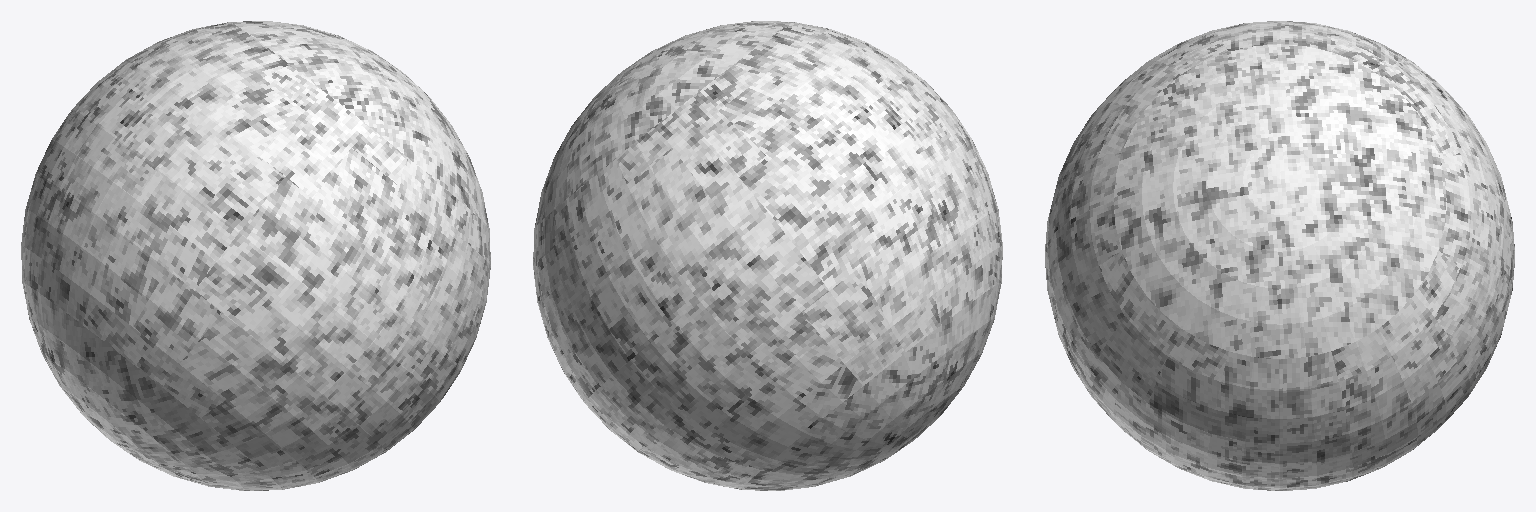
3 renders of one model, left to right at view 1: azimuth 30°, elevation 25°; view 2: azimuth 150°, elevation 25°; view 3: azimuth 270°, elevation 25°, orthographic.
Parts seen in each view (by area): view 1: Sphere001; view 2: Sphere001; view 3: Sphere001.
Boxes of the visible parts, x1,y1,x2,y2 form: Sphere001: [21, 21, 490, 490]; Sphere001: [533, 21, 1002, 490]; Sphere001: [1045, 21, 1514, 490].
Bounding box in the file's own units: 0.1 × 0.1 × 0.1.
Materials: 1 (1 with a texture image).